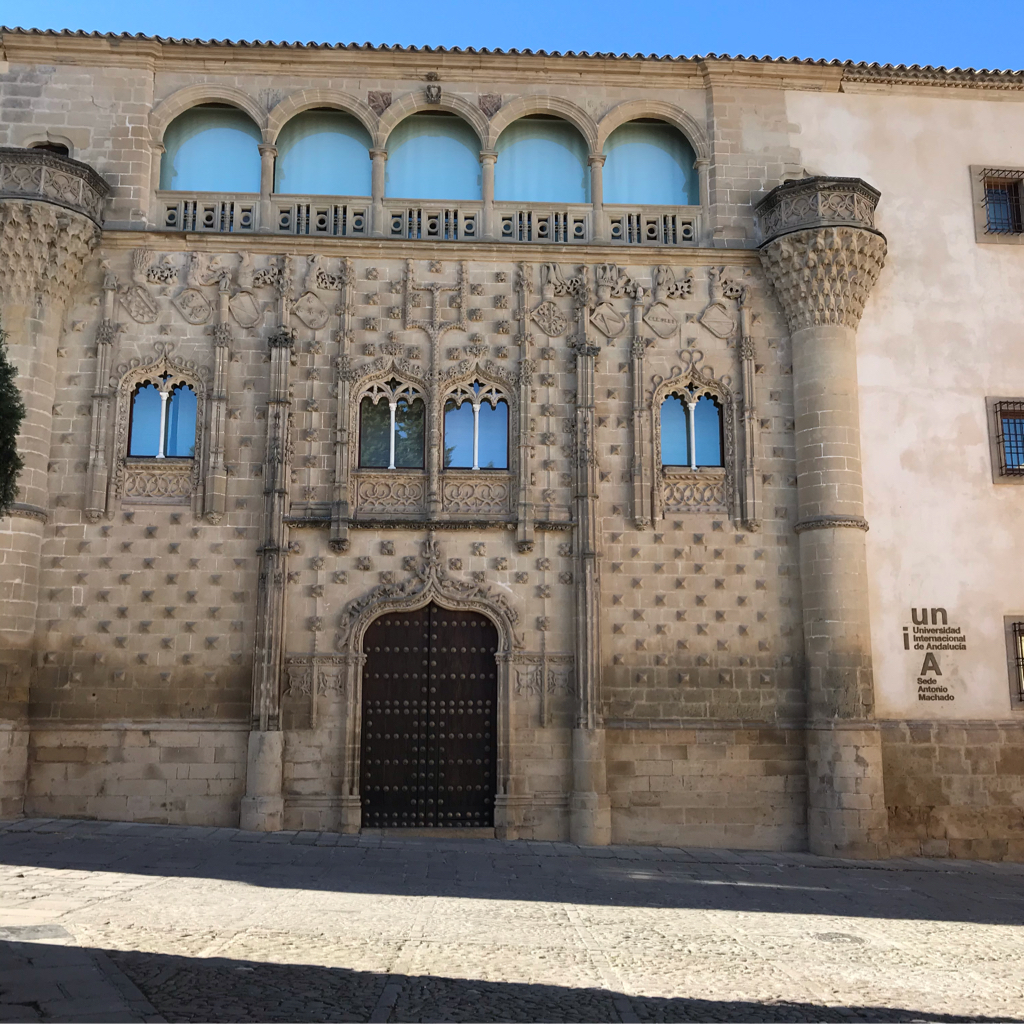arco-conopial: (348, 570, 511, 634), (117, 348, 210, 402), (649, 361, 735, 406), (349, 355, 426, 395), (443, 360, 516, 397)
arco-medio-punto: (153, 83, 262, 153), (380, 89, 485, 161), (597, 99, 702, 168), (268, 90, 373, 158), (492, 94, 593, 162)
